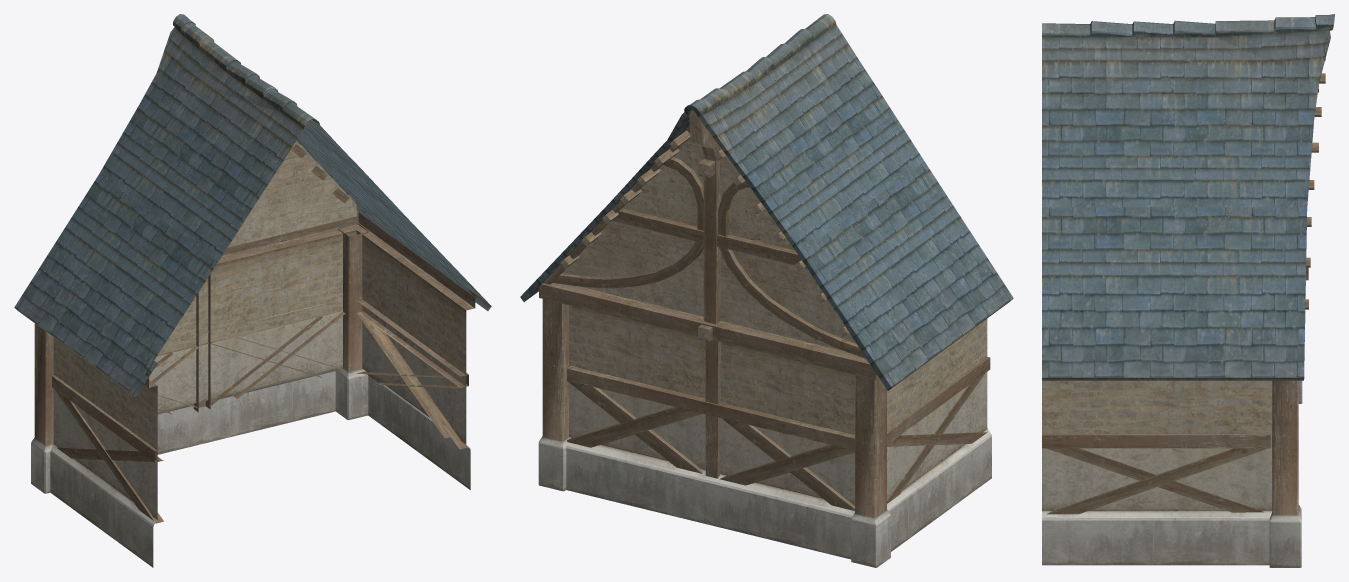
File: bg_lut_lakebar_house01_sm_jjy.FBX
The picture shows the model from 3 angles, left to right: view 1: azimuth 30°, elevation 25°; view 2: azimuth 150°, elevation 25°; view 3: azimuth 270°, elevation 25°; orthographic projection. The views are drawn at different scales.
Parts seen in each view (by area): view 1: bg_lut_lakebar_house01_sm_jjy; view 2: bg_lut_lakebar_house01_sm_jjy; view 3: bg_lut_lakebar_house01_sm_jjy.
Part boxes in pixels (x1=…): bg_lut_lakebar_house01_sm_jjy: x1=14, y1=14, x2=491, y2=567; bg_lut_lakebar_house01_sm_jjy: x1=520, y1=14, x2=1013, y2=567; bg_lut_lakebar_house01_sm_jjy: x1=1042, y1=14, x2=1334, y2=567.
Bounding box in the file's own units: 474 × 528 × 301.
